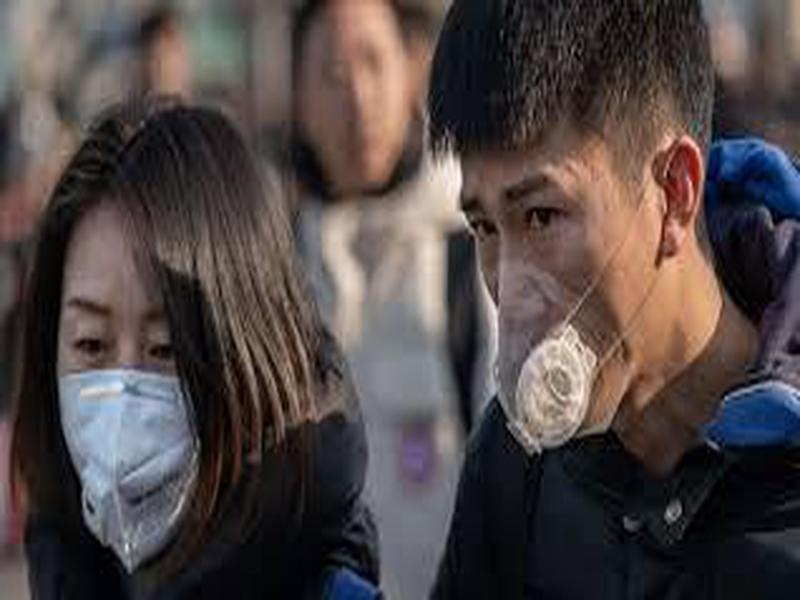with_mask: (415, 2, 726, 459), (22, 98, 304, 572)
